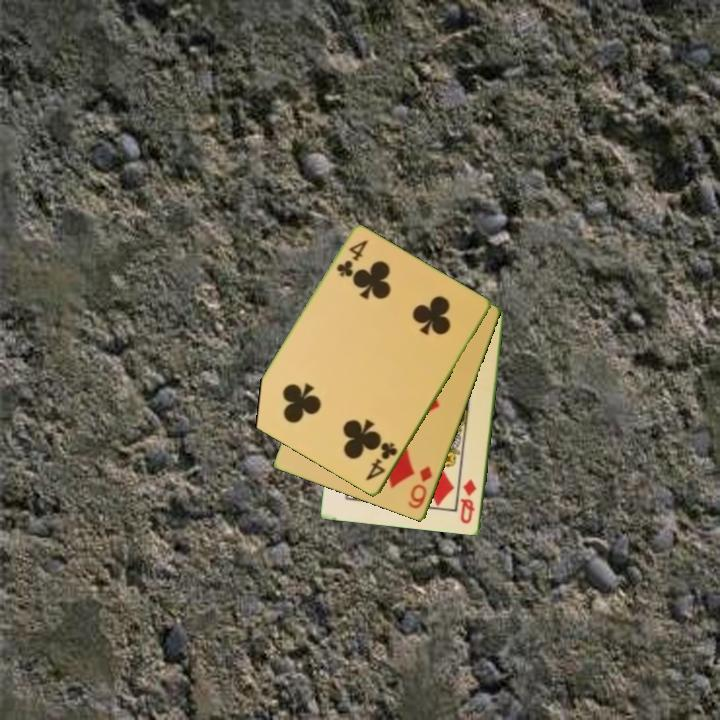4c: (362, 439, 401, 484), (333, 236, 371, 280)
6d: (405, 463, 436, 512)
Qd: (457, 476, 480, 527)
